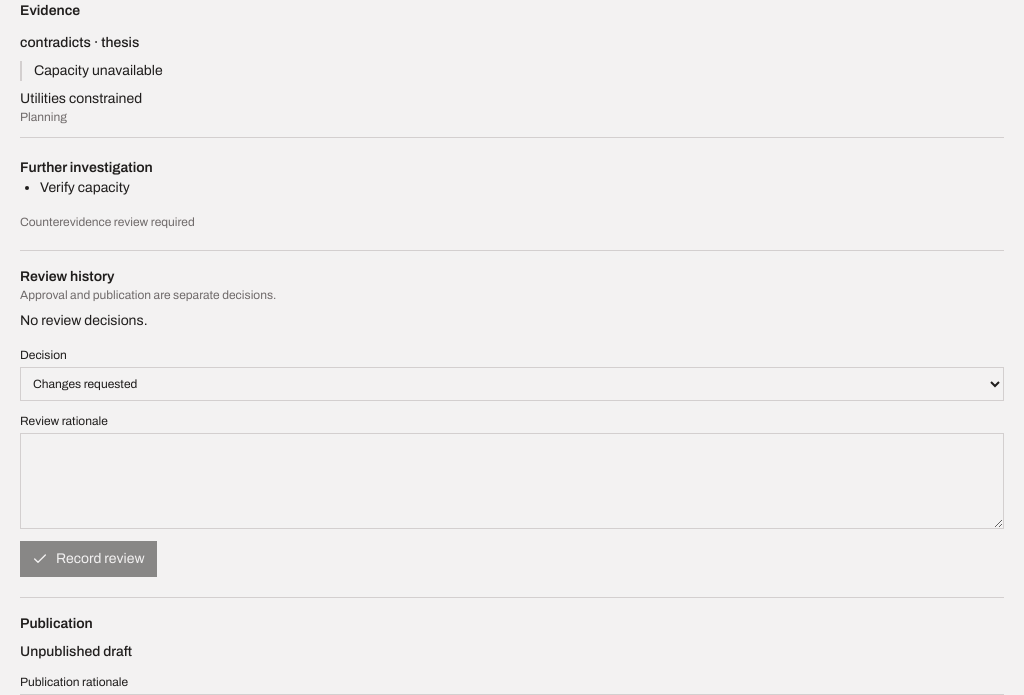
Scenario: Saved assessment review › records the selected revision and decision with trimmed rationale
(page scrolled)
Select "Approved" in the dropdown labelled "Decision": (512, 384) [20, 367, 1004, 401]
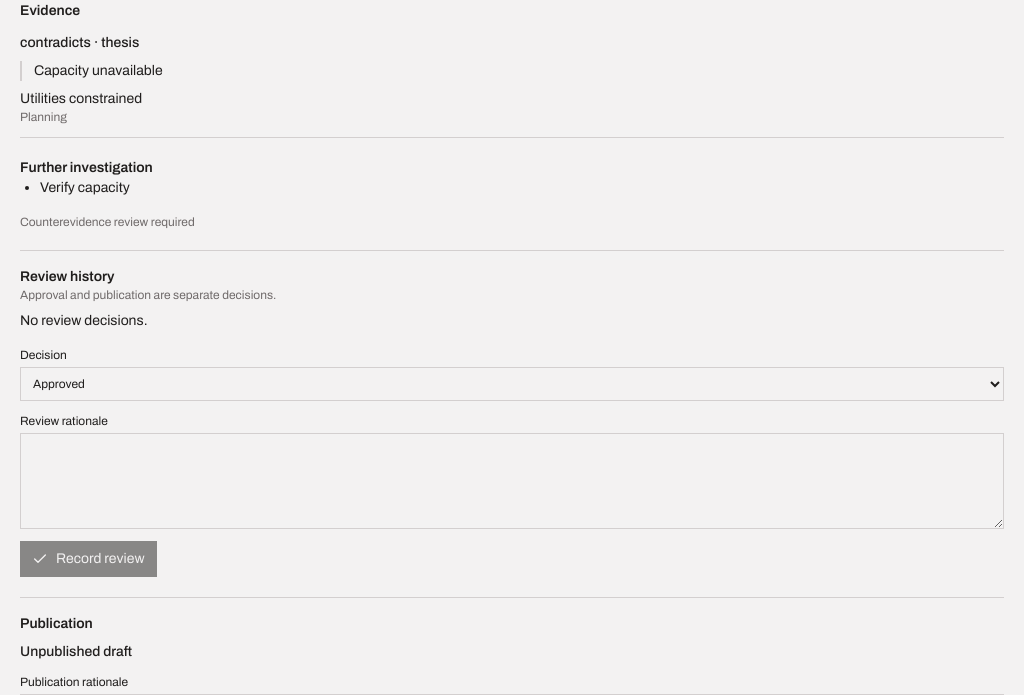
In the text box labelled "Review rationale": (512, 481) [20, 433, 1004, 529], type " Reviewed "
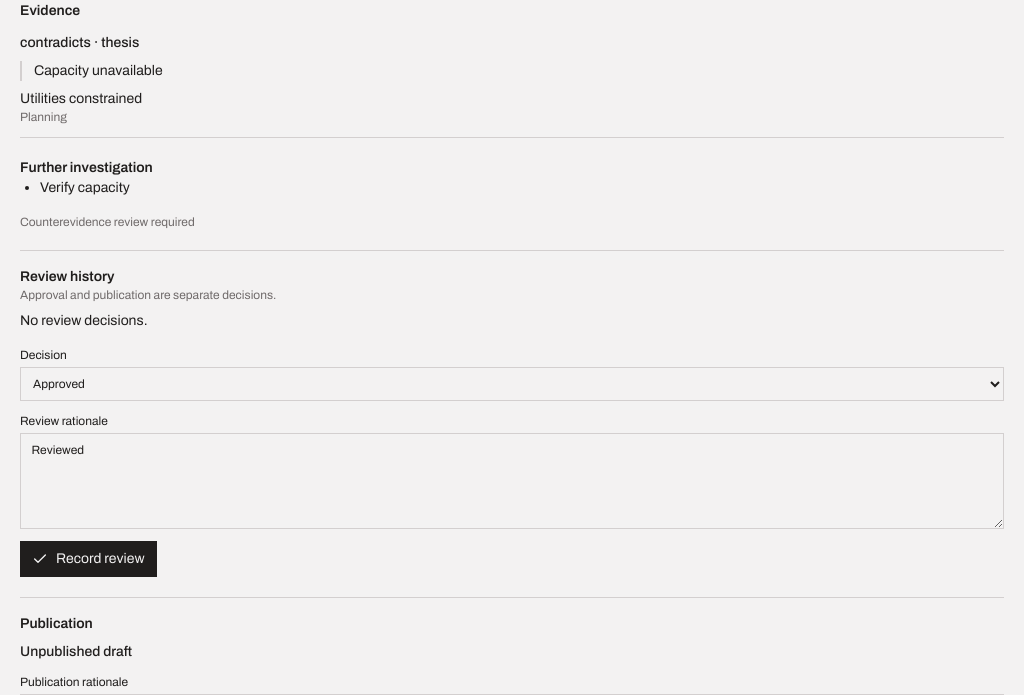
Click the button "Record review": (88, 559) [20, 541, 156, 577]
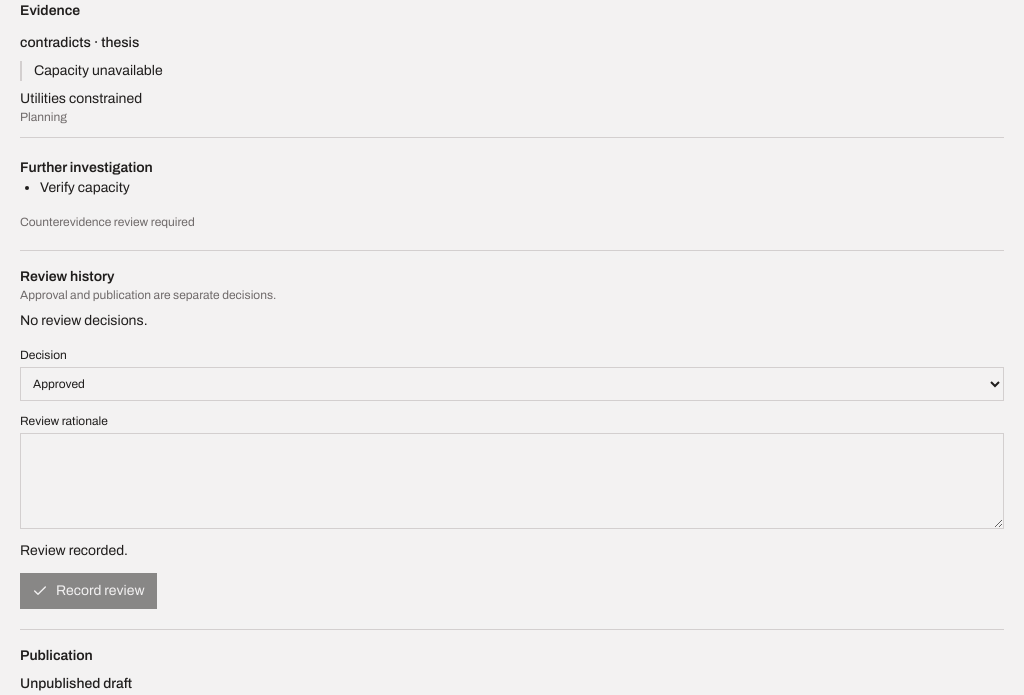
expect the text "Review recorded." is shown: met, box [20, 543, 128, 558]
